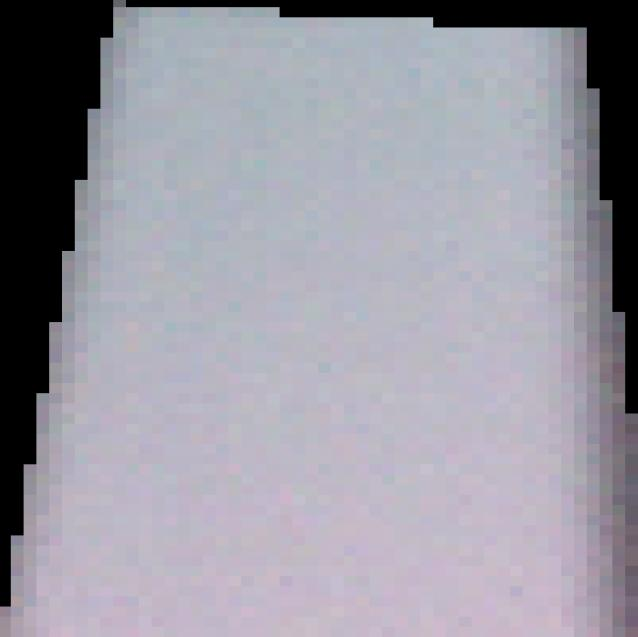curve: (0, 0, 638, 637)
